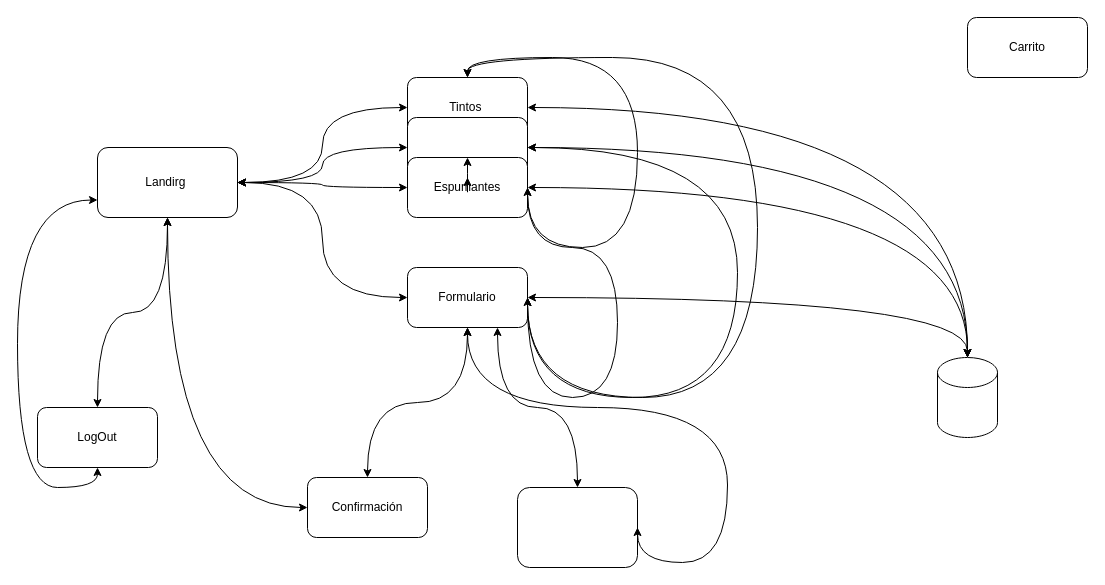
Image size: 1105x585. Some labels were removed from this diagram. The box of each missing label's shape, as (x1, y1, x2, y2) in pixels:
Blancos: (406, 116, 528, 178)
Login/Registración: (516, 486, 638, 568)
PostGre: (936, 356, 998, 438)
